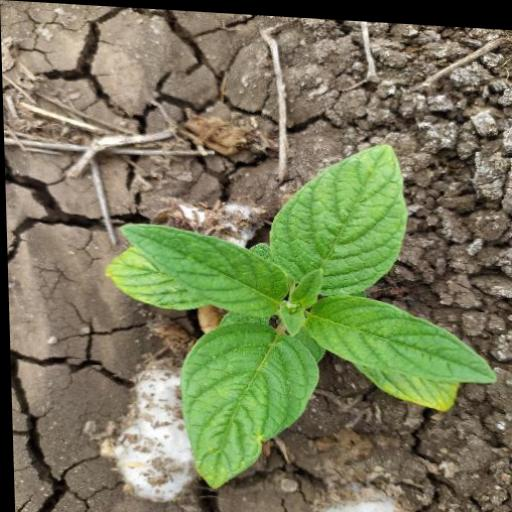crop: (95, 110, 489, 512)
